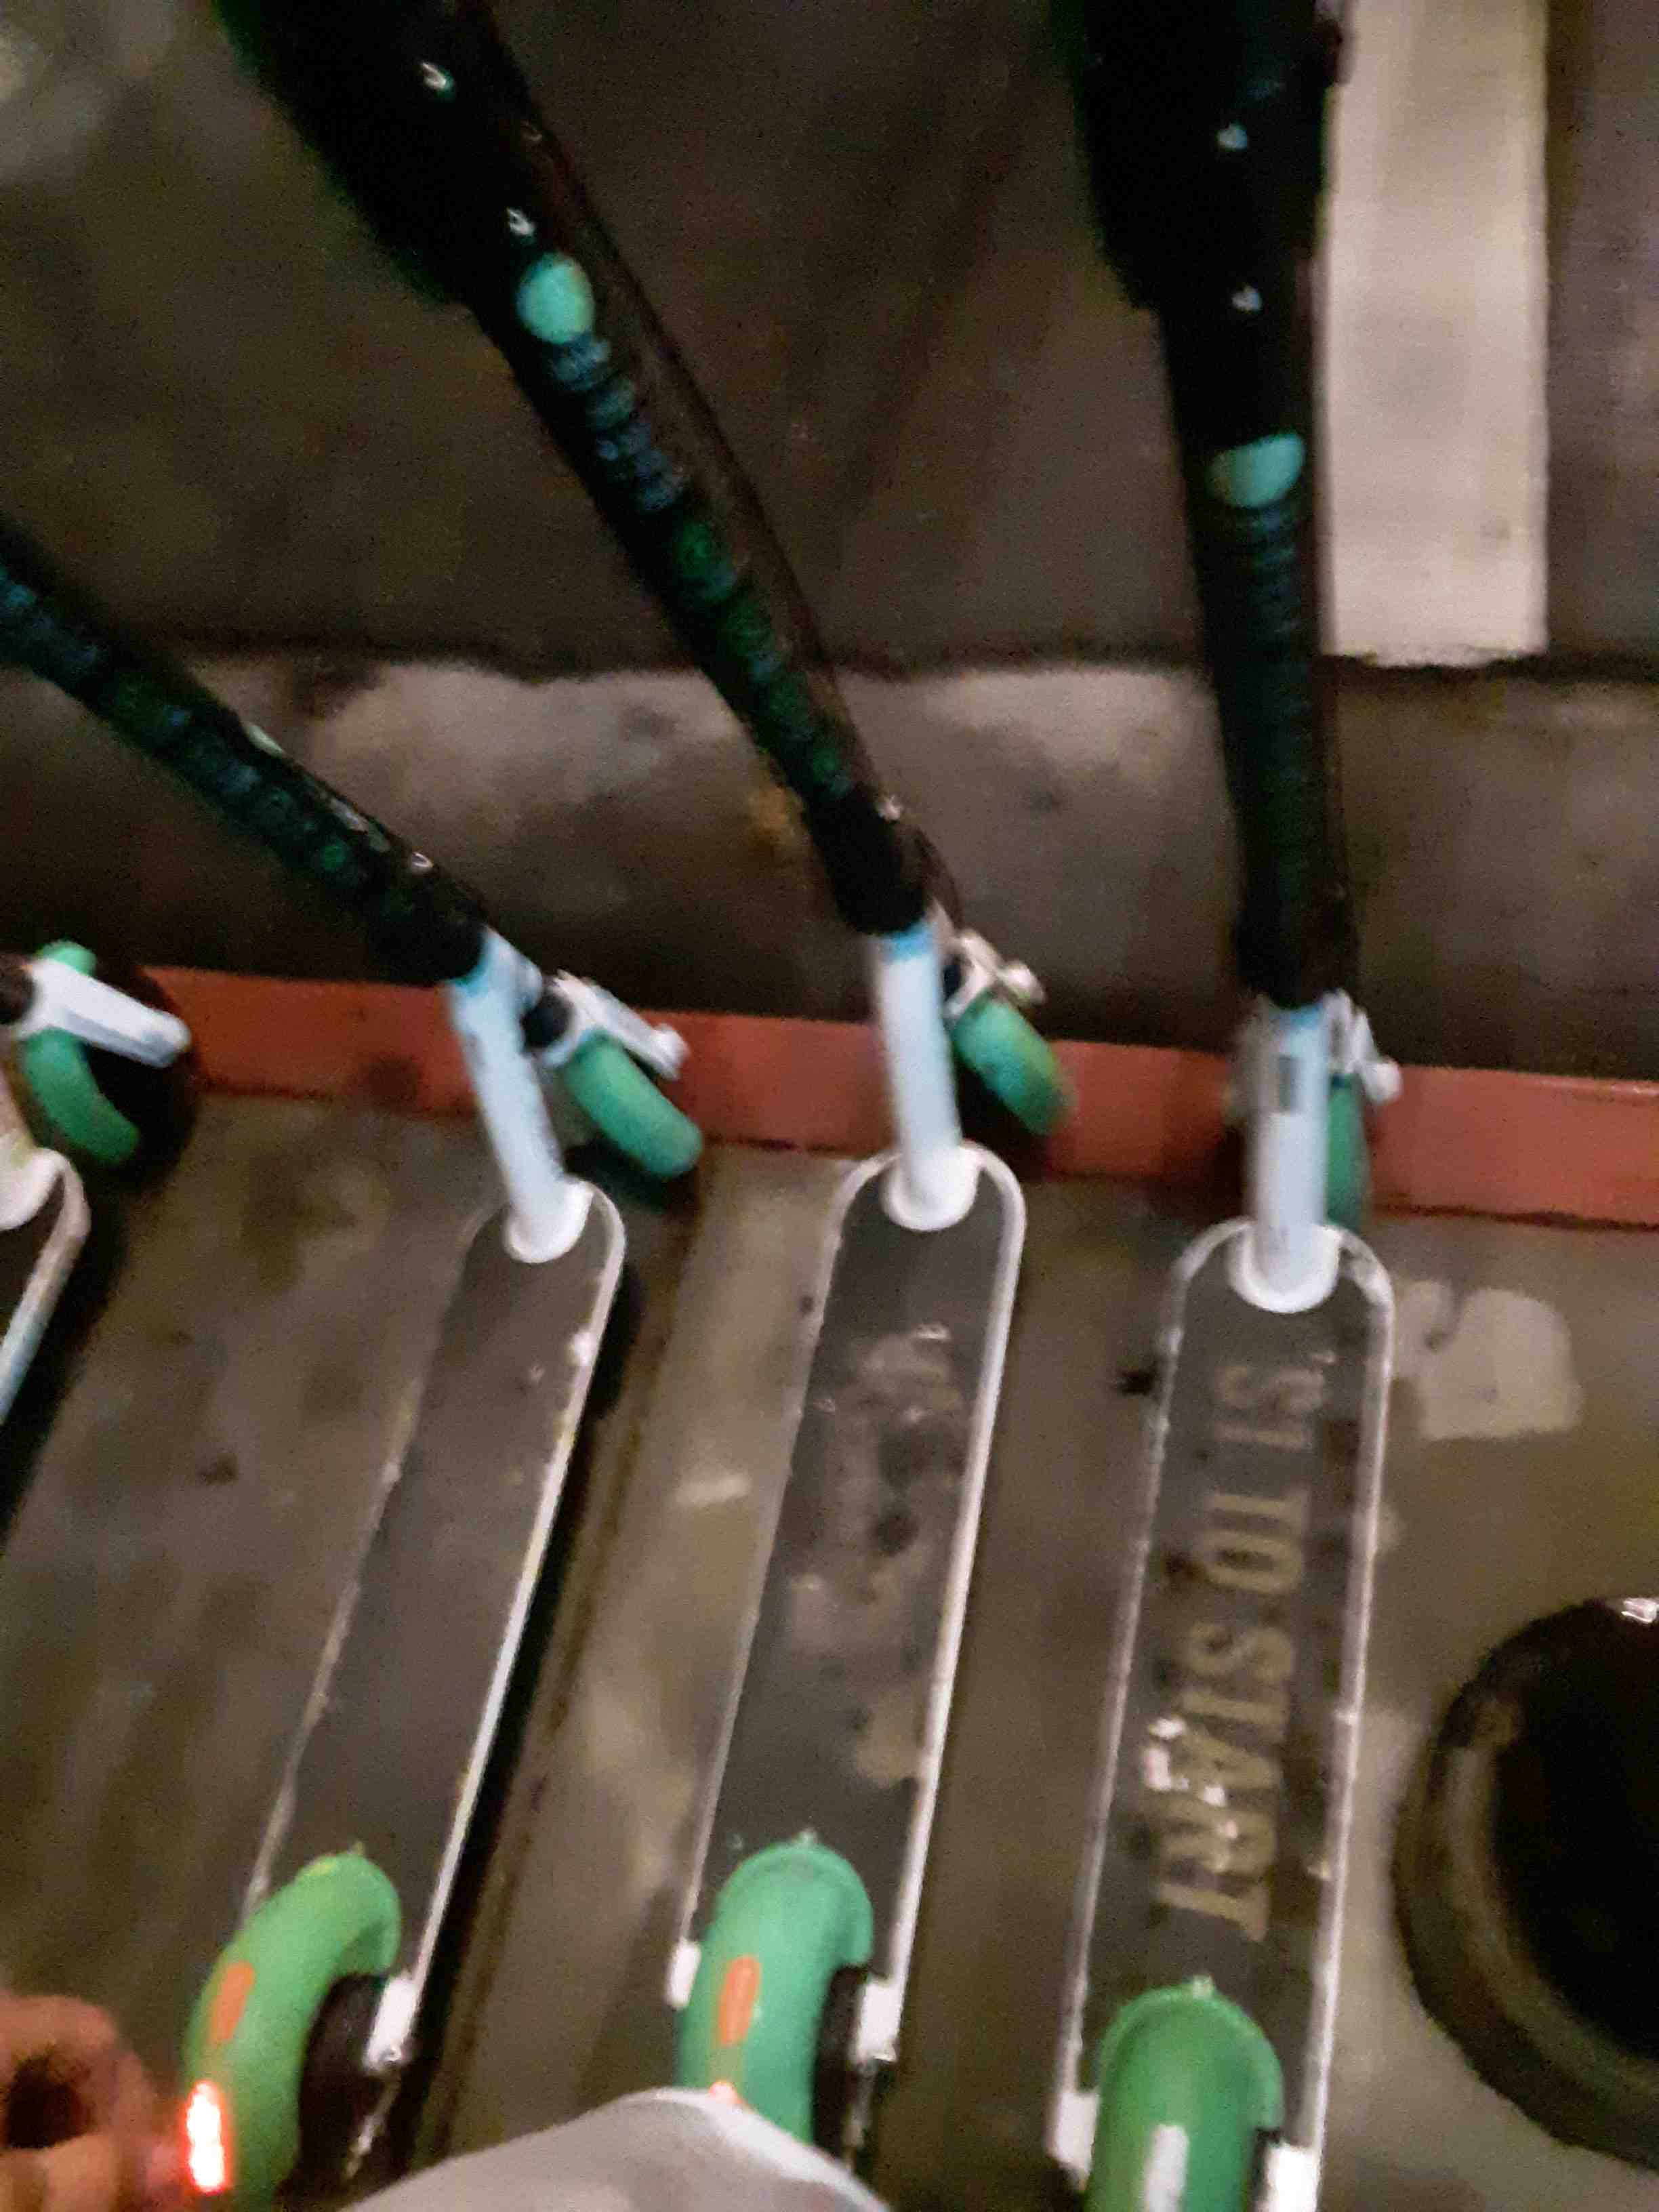too close: (1124, 979, 1596, 1362), (746, 894, 1176, 1252), (397, 941, 798, 1256), (0, 913, 314, 1226)
